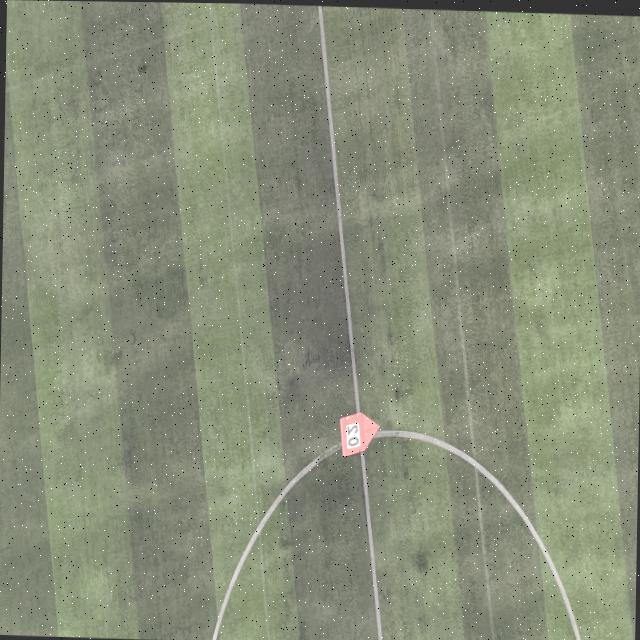board: (338, 409, 379, 456)
